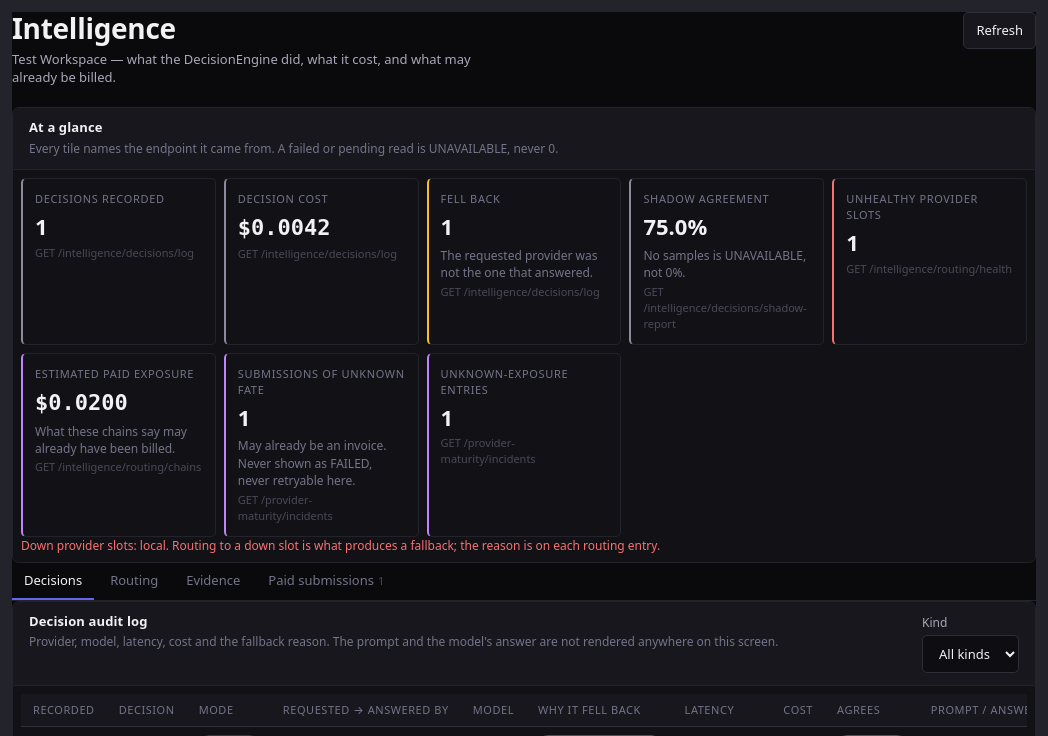
Test: Intelligence renders when data arrives › shows the routing tab's tiers and the verifier chain verdict
The width and height of the screenshot is (1048, 736).
Click the tab "Routing". click: click(134, 581)
box: x1=98 y1=563 x2=170 y2=600
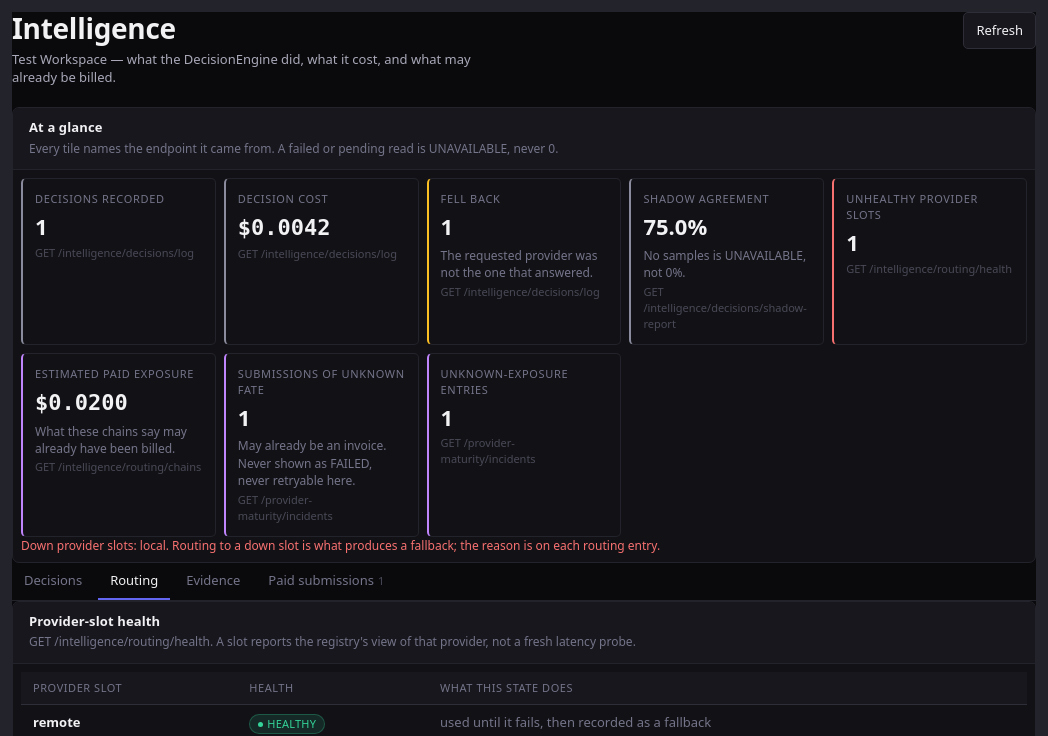
Check: the heading "Provider-slot health" is shown, box x1=29 y1=612 x2=160 y2=630
Click the tab "Evidence". click: click(213, 581)
box: x1=174 y1=563 x2=252 y2=600
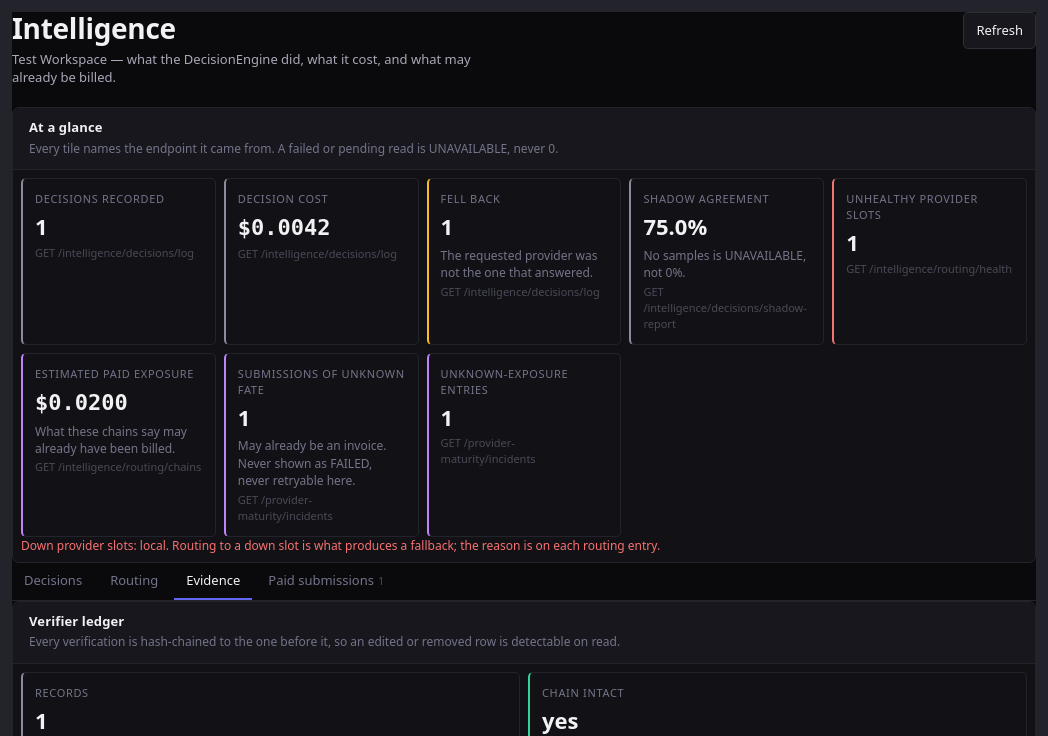
Check: the heading "Verifier ledger" is shown, box x1=29 y1=612 x2=124 y2=630
Check: the text "Chain intact" is shown, box x1=542 y1=685 x2=624 y2=700
